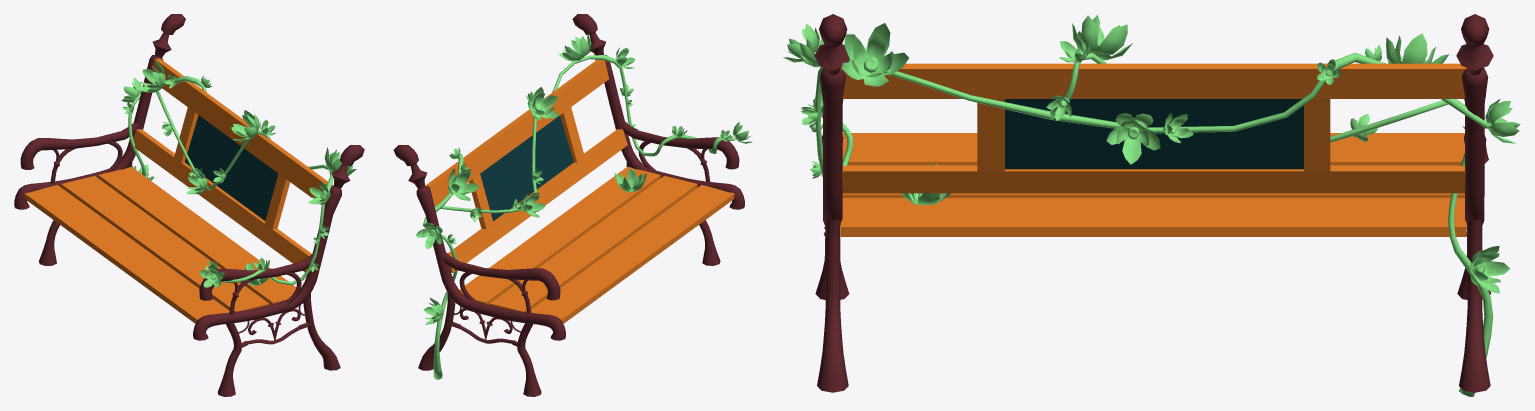
File: Bench.fbx
3 renders of one model, left to right at view 1: azimuth 30°, elevation 25°; view 2: azimuth 150°, elevation 25°; view 3: azimuth 270°, elevation 25°, orthographic. The views are drawn at different scales.
Parts seen in each view (by area): view 1: Bench, Tige, Flower001, Flower012, Flower015, Flower006, Flower003, Flower008; view 2: Bench, Tige, Flower012, Flower001, Flower006, Flower, Flower020, Flower008, Flower022; view 3: Bench, Tige, Flower006, Flower007, Flower012, Flower022, Flower001, Flower020.
Boxes of the visible parts, x1,y1,x2,y2 form: Bench: (14, 14, 364, 396); Tige: (128, 76, 333, 285); Flower001: (136, 60, 165, 92); Flower012: (231, 110, 259, 141); Flower015: (199, 263, 224, 287); Flower006: (324, 147, 356, 175); Flower003: (308, 181, 330, 204); Flower008: (186, 168, 207, 194); Bench: (393, 14, 744, 396); Tige: (422, 55, 736, 379); Flower012: (527, 87, 558, 119); Flower001: (448, 169, 479, 200); Flower006: (558, 33, 591, 61); Flower: (614, 168, 646, 192); Flower020: (416, 222, 442, 249); Flower008: (523, 192, 545, 217); Flower022: (423, 297, 443, 324); Bench: (814, 14, 1493, 392); Tige: (813, 52, 1493, 396); Flower006: (842, 23, 908, 86); Flower007: (1106, 113, 1160, 164); Flower012: (1072, 14, 1132, 60); Flower022: (1469, 246, 1509, 293); Flower001: (1386, 33, 1448, 63); Flower020: (1485, 99, 1520, 143).
Bounding box in the file's own units: 73.25 × 92.08 × 151.
